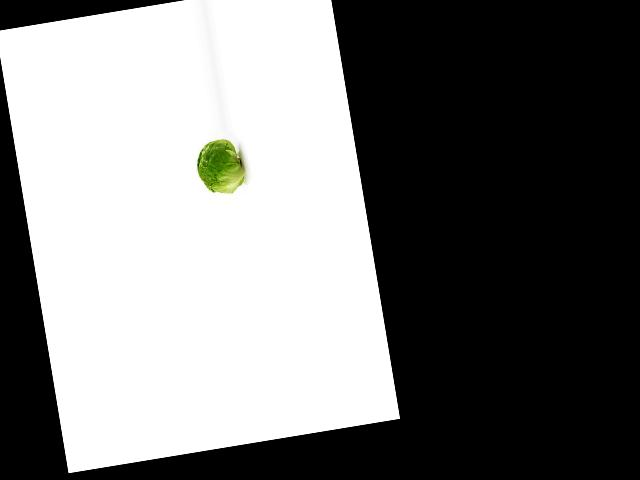lettuce: (190, 130, 244, 198)
